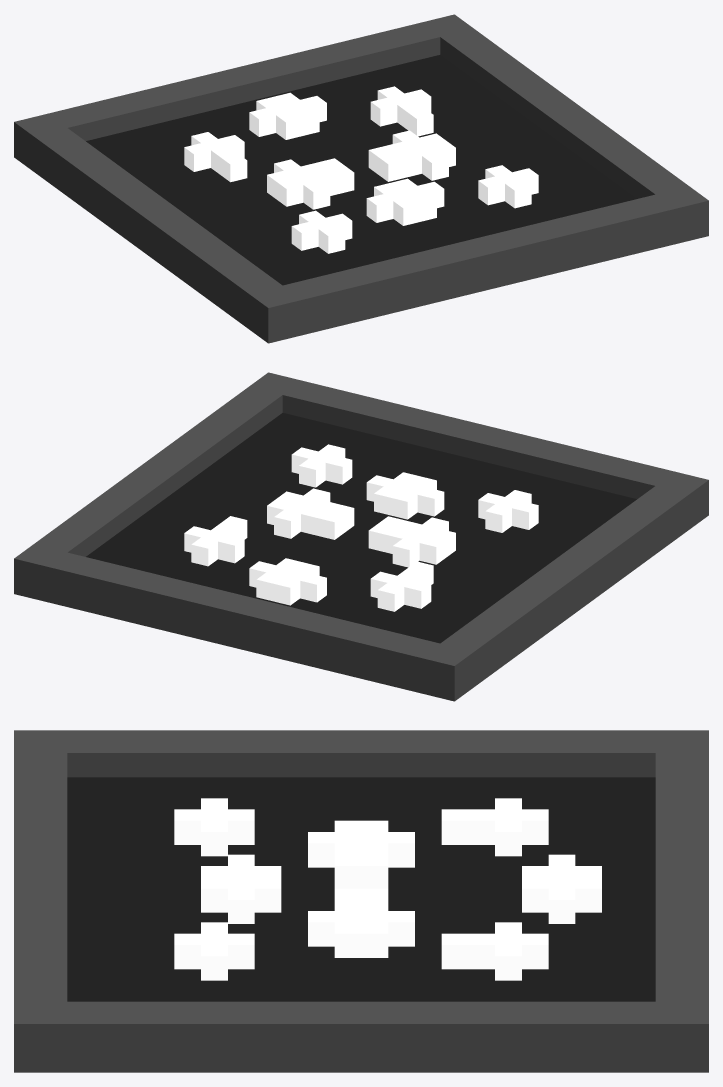
The model's file is trap_STARS_GREY.glb.
3 renders of one model, top to bottom at view 1: azimuth 30°, elevation 25°; view 2: azimuth 150°, elevation 25°; view 3: azimuth 270°, elevation 25°, orthographic. The views are drawn at different scales.
Visible parts, largest first — view 1: item_TRAP_STARS_GREY; view 2: item_TRAP_STARS_GREY; view 3: item_TRAP_STARS_GREY.
Boxes of the visible parts, x1,y1,x2,y2 form: item_TRAP_STARS_GREY: (14,14,708,343); item_TRAP_STARS_GREY: (14,372,708,701); item_TRAP_STARS_GREY: (14,730,708,1072).
Bounding box in the file's own units: 0.5909 × 0.0455 × 0.5909.
Materials: 1 (1 with a texture image).
